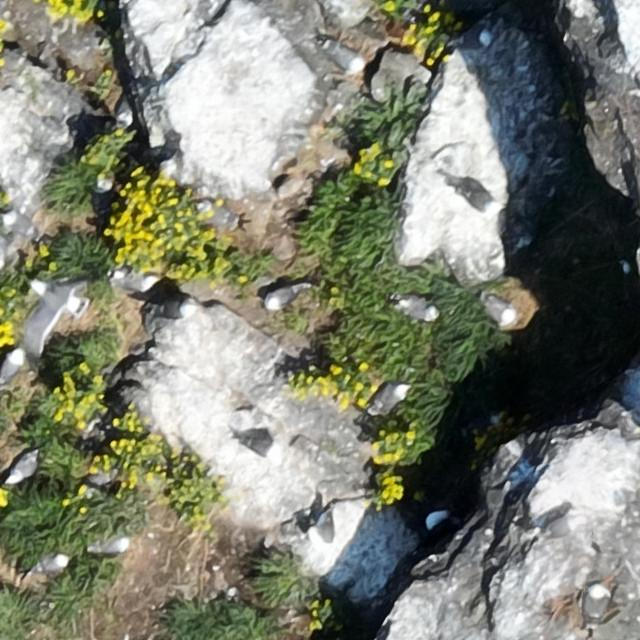F: (34, 258, 84, 340)
umineko: (186, 198, 254, 228), (475, 285, 524, 325), (309, 505, 339, 553), (459, 187, 497, 212), (8, 452, 37, 484), (327, 45, 363, 70), (397, 299, 435, 320), (372, 386, 404, 410), (242, 436, 279, 456), (115, 273, 155, 291), (266, 286, 298, 308), (154, 300, 190, 319), (1, 352, 22, 384), (35, 553, 68, 572), (99, 537, 131, 554), (586, 589, 604, 618), (426, 510, 450, 529)
